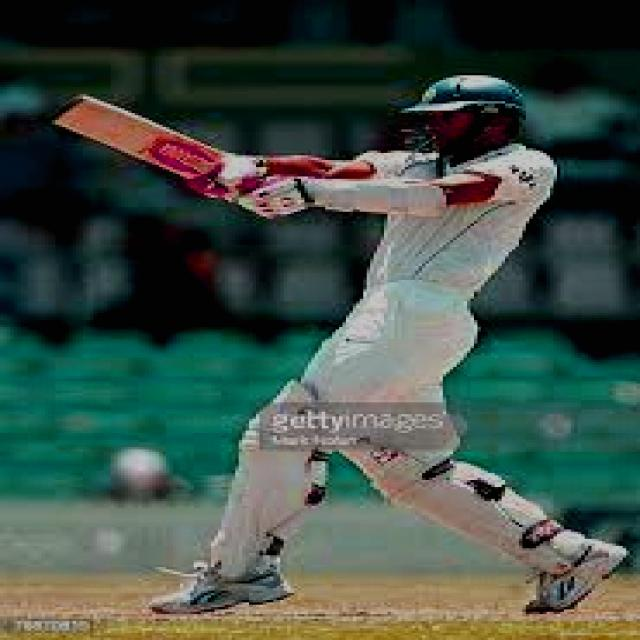toe: (39, 90, 102, 128)
